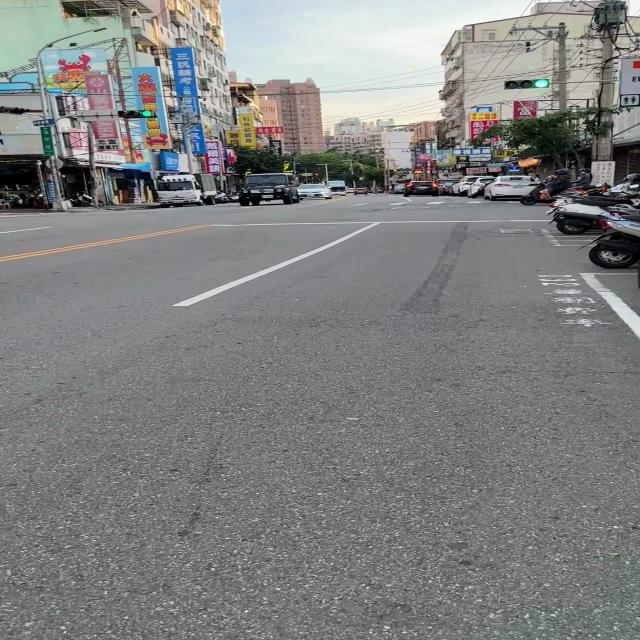car: (238, 172, 300, 205), (483, 175, 534, 200), (404, 181, 439, 197), (296, 184, 331, 200)
crosswalk: (348, 201, 520, 206)
motocycle: (589, 212, 640, 269), (549, 199, 620, 235), (521, 182, 545, 205)
trunk: (157, 174, 216, 208)
